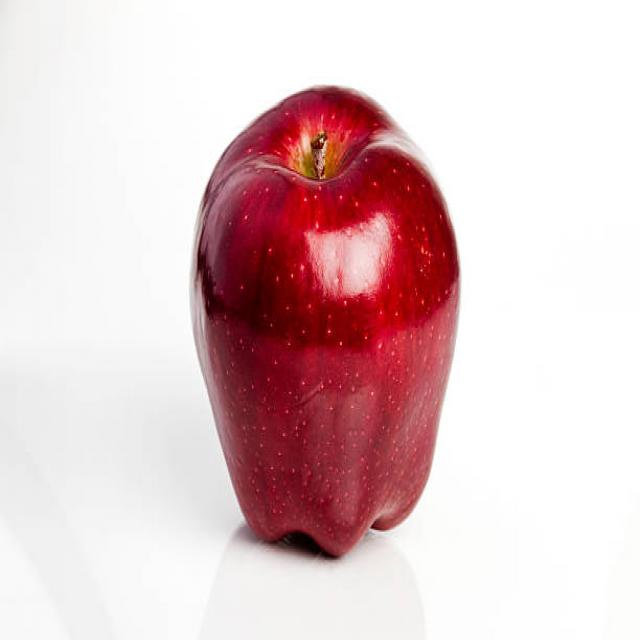Apple: (193, 83, 466, 557)
